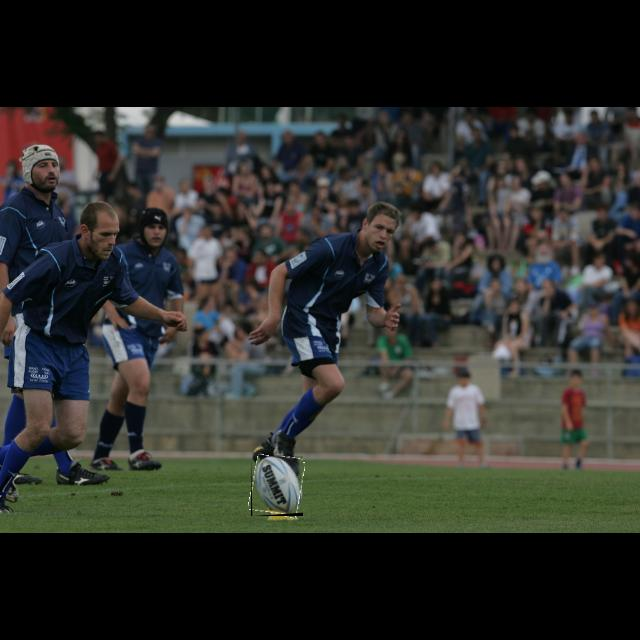Football: (251, 456, 303, 516)
